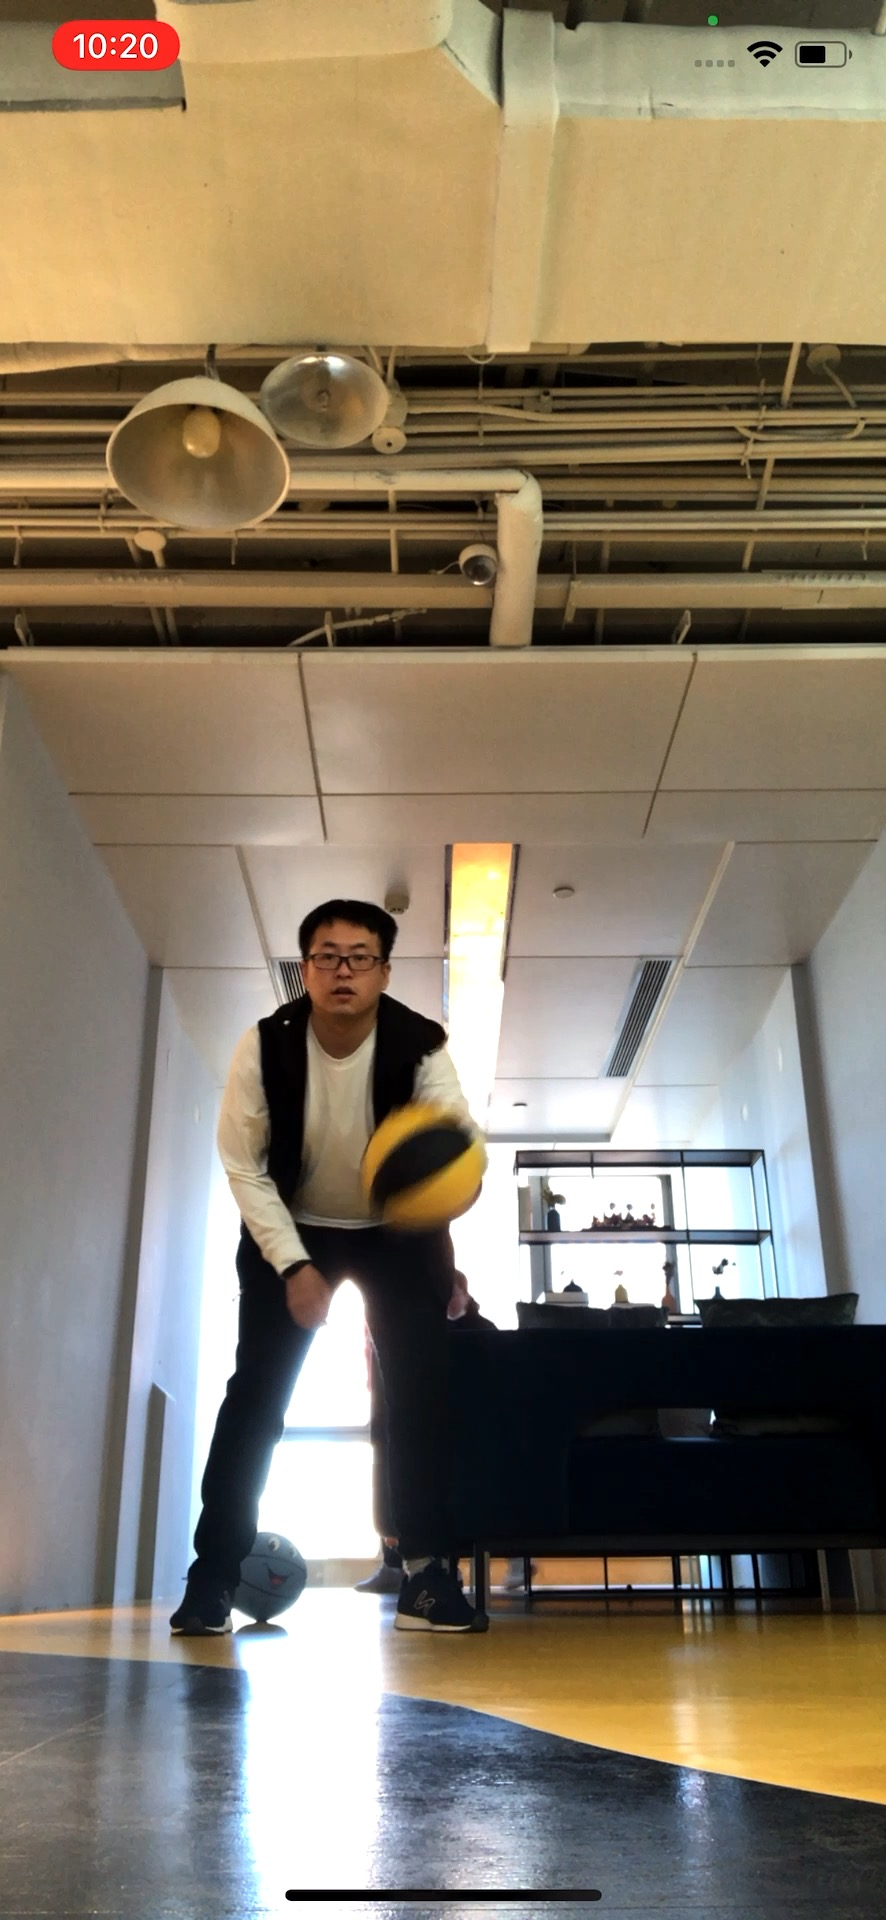ball: (359, 1100, 488, 1227), (221, 1529, 308, 1619)
